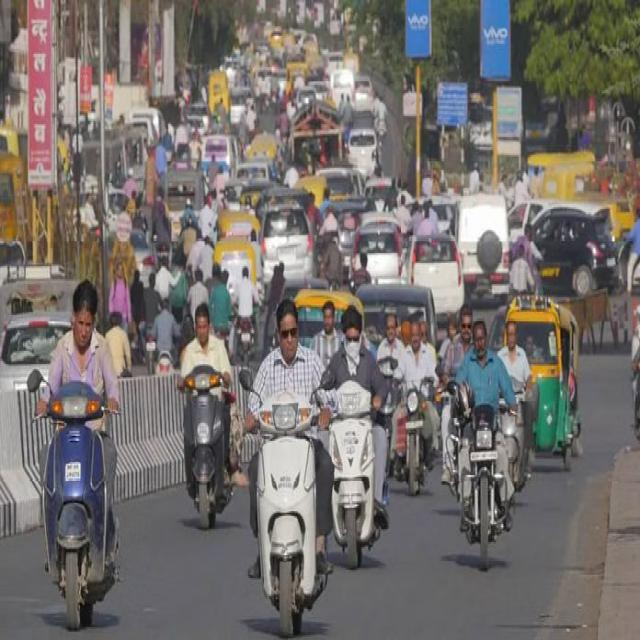Vehicles: (35, 371, 129, 640), (253, 380, 330, 640), (452, 374, 528, 604), (501, 288, 585, 485), (327, 352, 386, 586), (173, 352, 241, 535), (524, 202, 628, 314), (255, 193, 323, 322), (342, 208, 408, 317), (403, 228, 465, 332), (213, 227, 267, 311), (398, 387, 437, 497), (342, 123, 388, 186)
